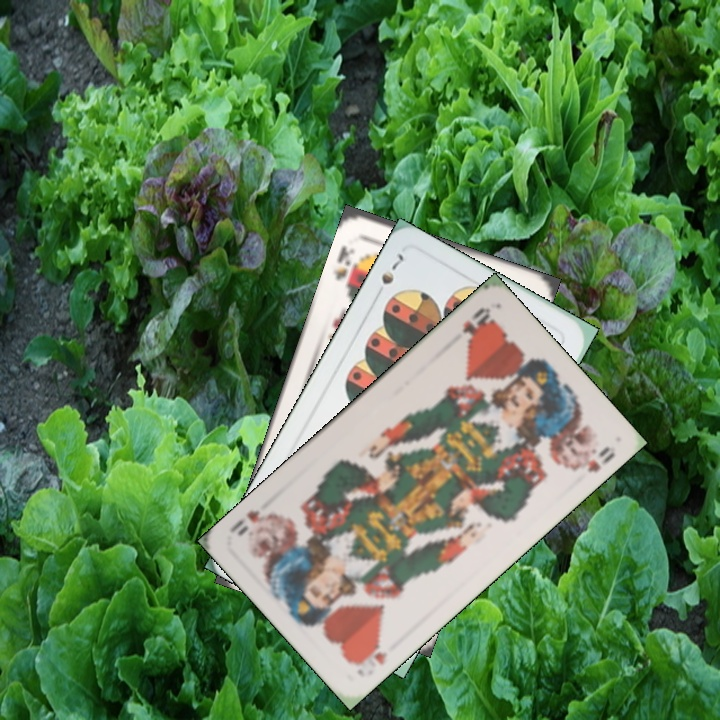HO: (458, 303, 493, 344), (351, 637, 390, 668)
S7: (370, 249, 406, 301)
SK: (329, 241, 357, 283)
